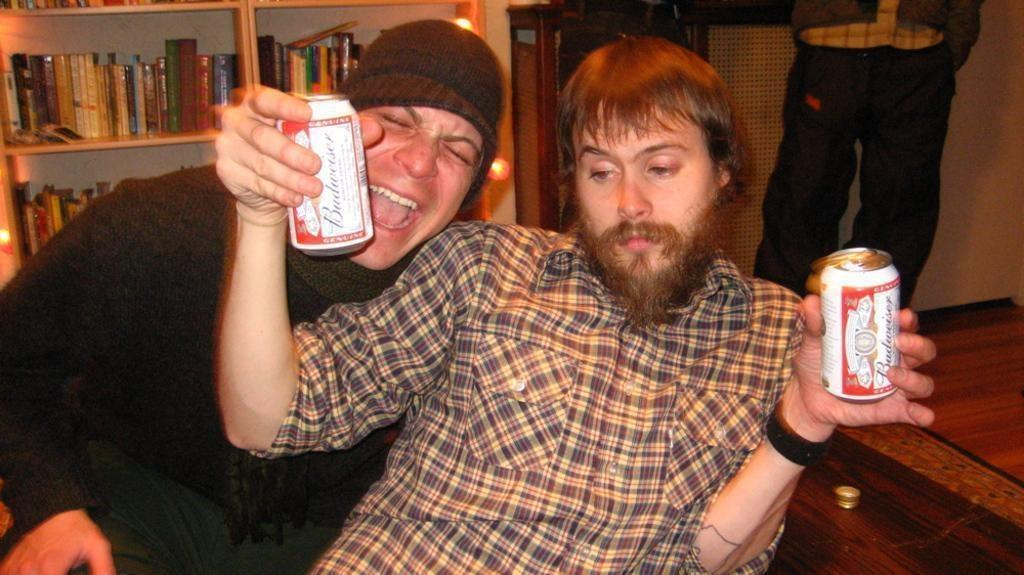tin can: (273, 90, 376, 260), (814, 244, 905, 405)
